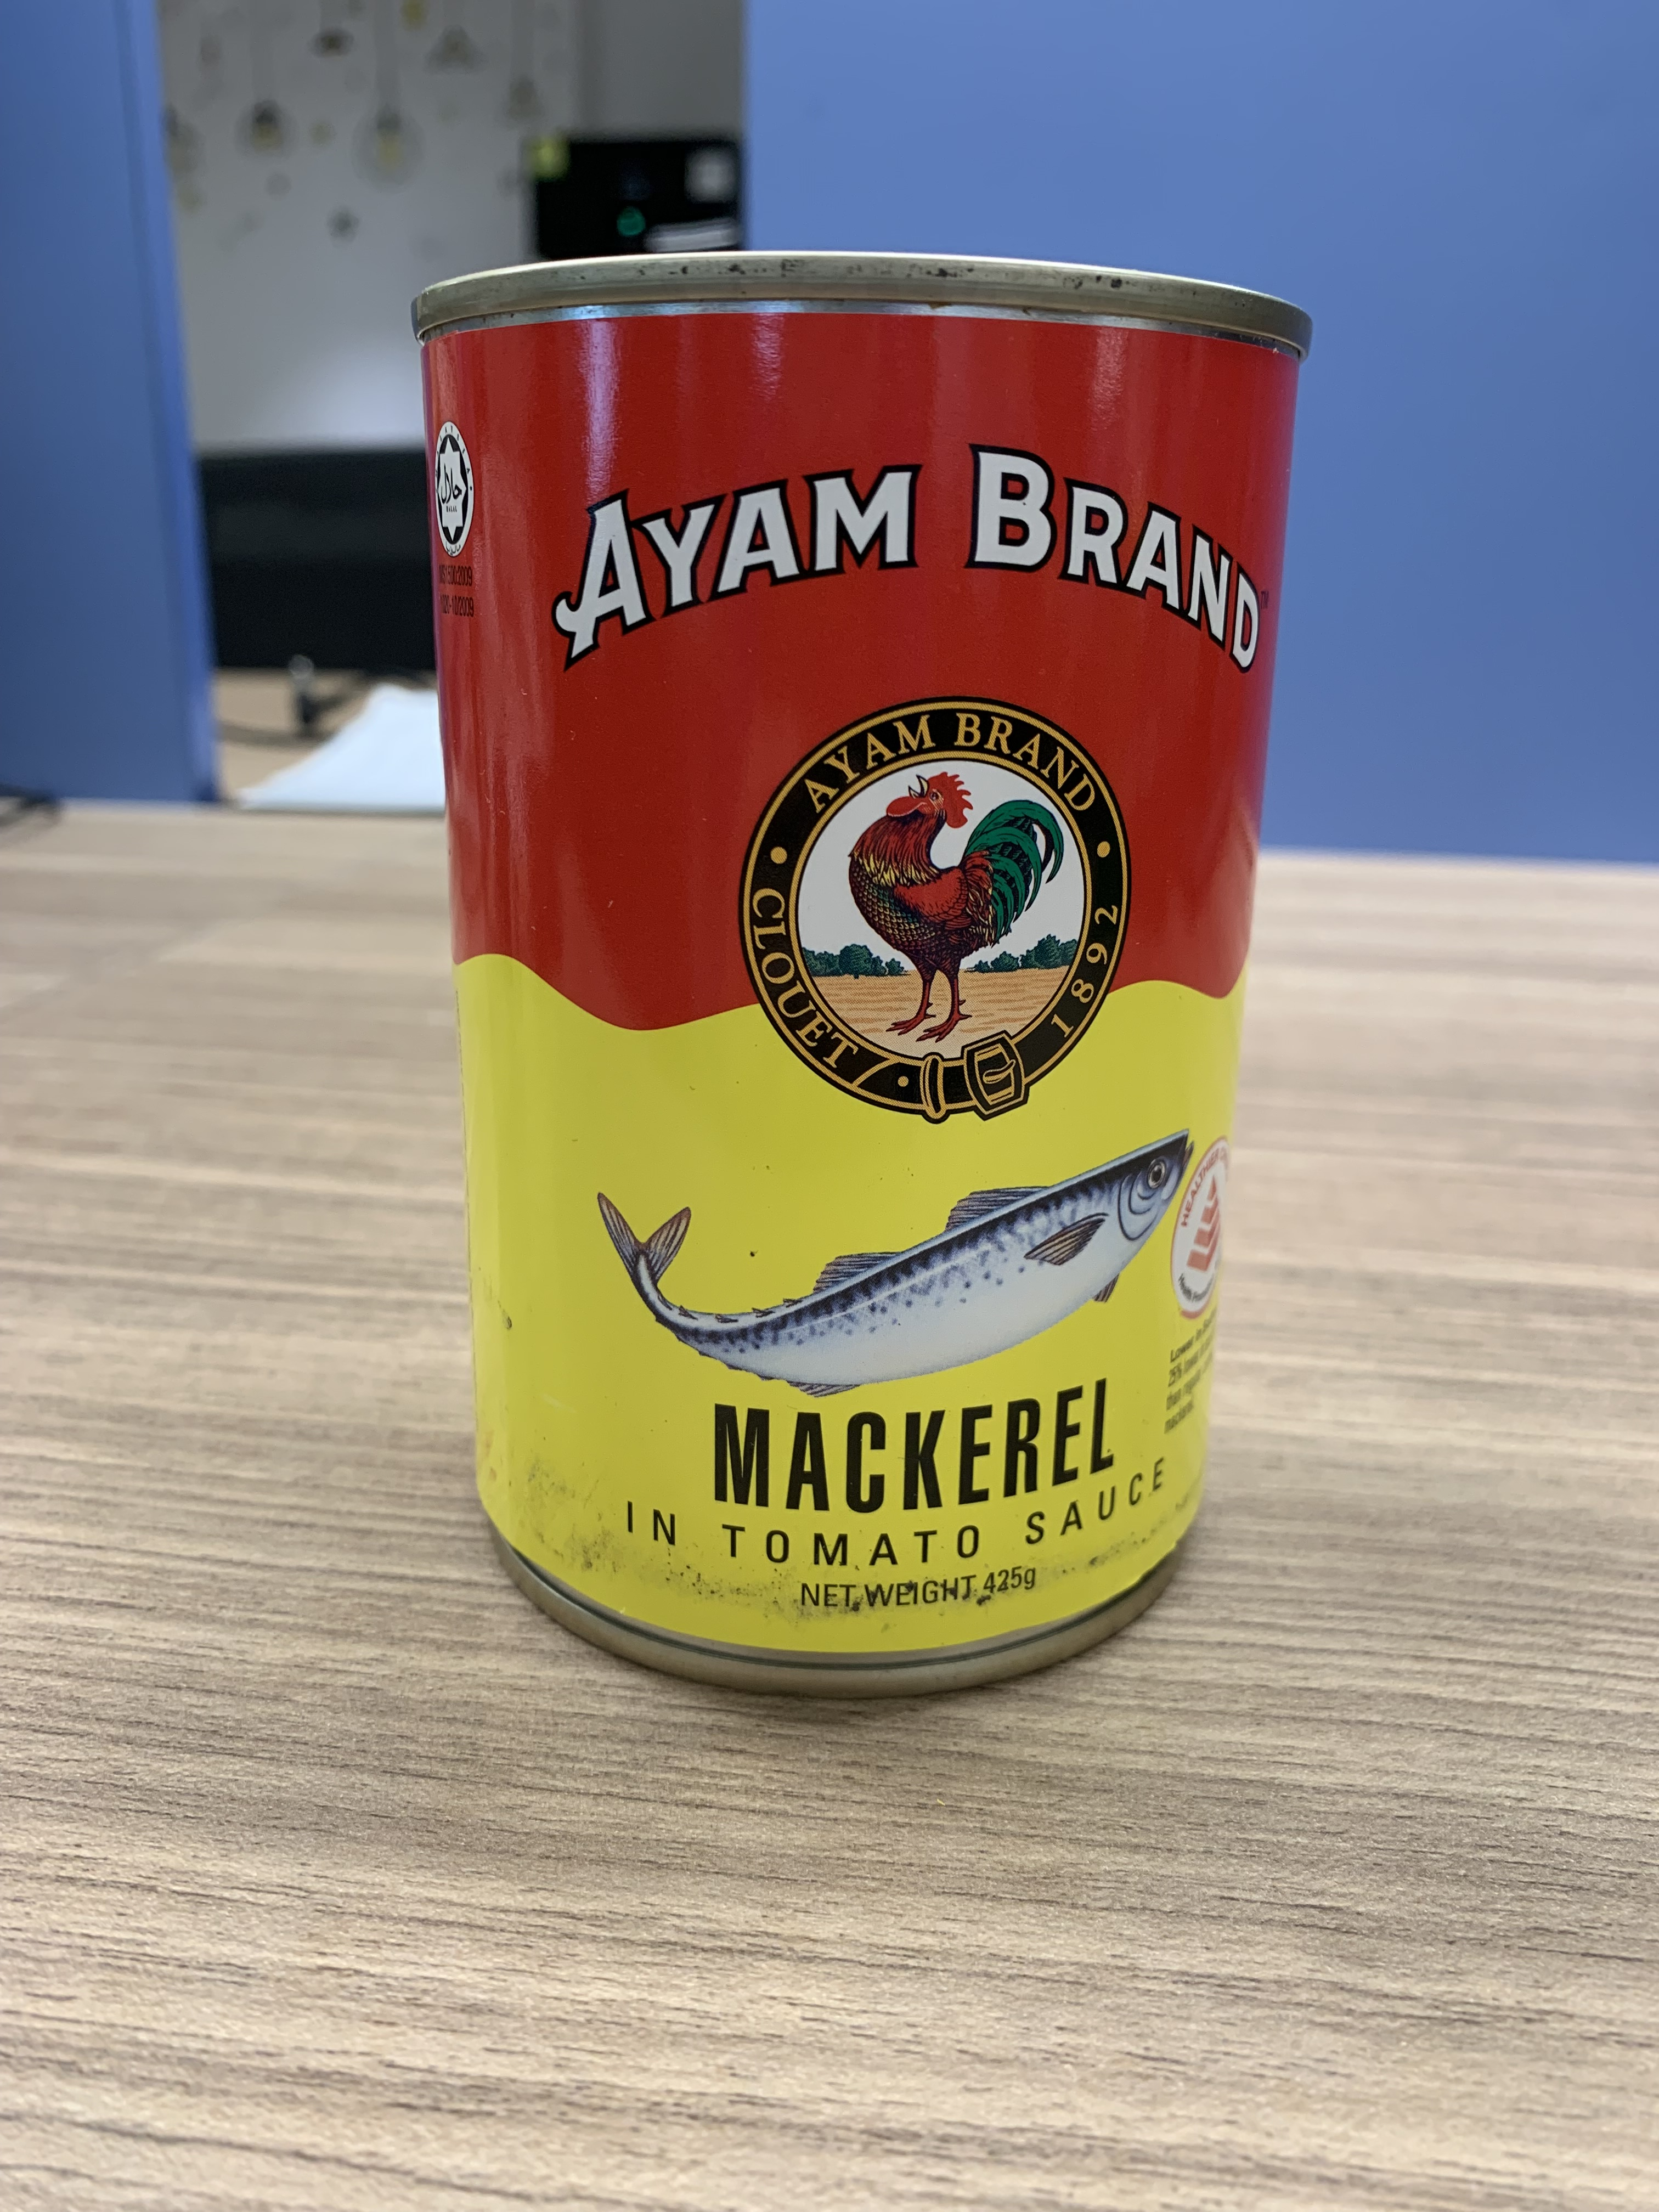sardines: (396, 253, 1328, 1709)
